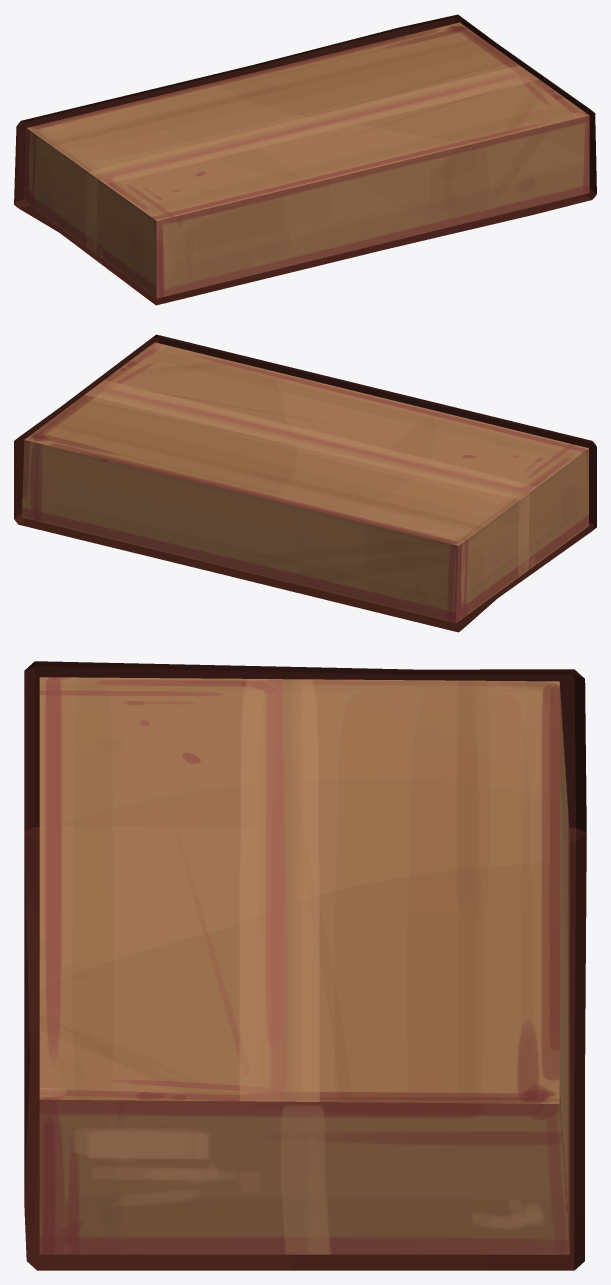
The picture shows the model from 3 angles, top to bottom: view 1: azimuth 30°, elevation 25°; view 2: azimuth 150°, elevation 25°; view 3: azimuth 270°, elevation 25°; orthographic projection. The views are drawn at different scales.
Parts seen in each view (by area): view 1: Box_03; view 2: Box_03; view 3: Box_03.
Boxes of the visible parts, bbox=[...] form: Box_03: bbox=[14, 14, 596, 305]; Box_03: bbox=[14, 334, 596, 632]; Box_03: bbox=[24, 661, 586, 1270].
Size of the model in its own units: 1.94 by 0.3785 by 1.05.
